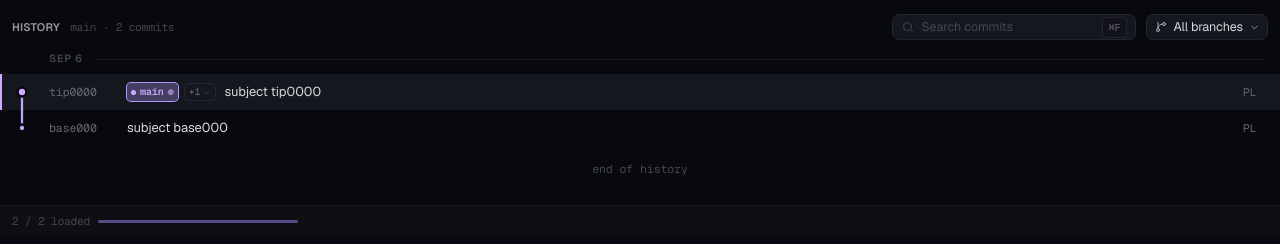
CommitHistory ref picker › offers every ref on the commit, with the remote folded into its branch
The width and height of the screenshot is (1280, 244).
Click the button "+1" at (200, 92), box [184,83,216,101]
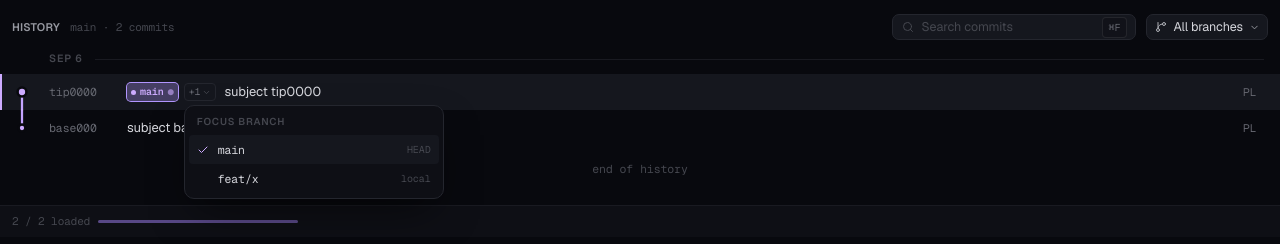
Now the menu item "main HEAD" is shown, box [189,135,439,164]
